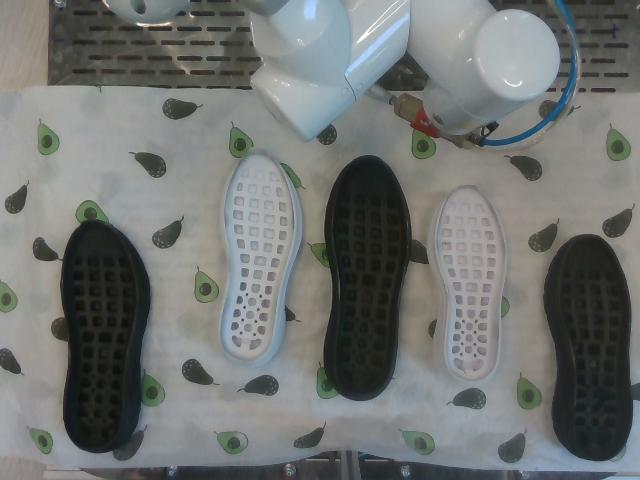shoes: (334, 157, 407, 393), (63, 221, 136, 448), (560, 237, 631, 460), (220, 149, 294, 361), (437, 185, 505, 381)
